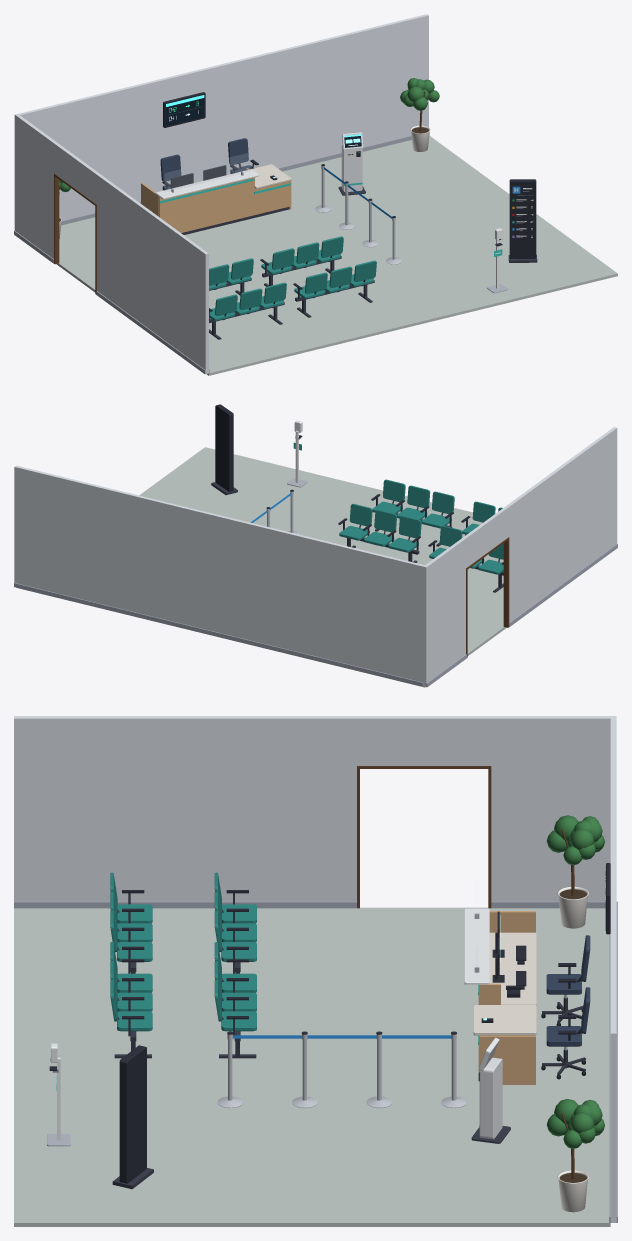
The model's file is hos-013.glb.
3 renders of one model, top to bottom at view 1: azimuth 30°, elevation 25°; view 2: azimuth 150°, elevation 25°; view 3: azimuth 270°, elevation 25°, orthographic. The views are drawn at different scales.
Parts seen in each view (by area): view 1: wall, hospital_floor, vinyl_teal, beech, plastic_dark, dark_steel, glass_clear, skirting, white, chair_fabric, stainless, bed_frame (+5 smaller); view 2: wall, hospital_floor, vinyl_teal, skirting, plastic_dark, walnut, dark_steel; view 3: hospital_floor, wall, vinyl_teal, plastic_dark, laminate, skirting, leaf, beech, dark_steel, white, stainless, bed_frame (+4 smaller).
Part boxes in pixels (left/top/right/bottom): wall: left=14, top=14, right=428, bottom=373; hospital_floor: left=56, top=136, right=617, bottom=375; vinyl_teal: left=209, top=236, right=376, bottom=320; beech: left=141, top=168, right=291, bottom=232; plastic_dark: left=162, top=92, right=536, bottom=311; dark_steel: left=181, top=186, right=537, bottom=339; glass_clear: left=165, top=153, right=249, bottom=191; skirting: left=14, top=134, right=429, bottom=374; white: left=155, top=169, right=533, bottom=288; chair_fabric: left=160, top=138, right=253, bottom=190; stainless: left=315, top=166, right=401, bottom=264; bed_frame: left=341, top=132, right=363, bottom=192; wall: left=14, top=427, right=617, bottom=686; hospital_floor: left=16, top=447, right=506, bottom=687; vinyl_teal: left=339, top=479, right=503, bottom=574; skirting: left=14, top=544, right=617, bottom=687; plastic_dark: left=215, top=404, right=503, bottom=564; walnut: left=466, top=537, right=509, bottom=657; dark_steel: left=211, top=482, right=503, bottom=592; hospital_floor: left=14, top=907, right=610, bottom=1226; wall: left=14, top=716, right=616, bottom=1222; vinyl_teal: left=110, top=872, right=256, bottom=1031; plastic_dark: left=49, top=863, right=610, bottom=1183; laminate: left=473, top=932, right=536, bottom=1035; skirting: left=14, top=901, right=617, bottom=1222; leaf: left=546, top=815, right=604, bottom=1148; beech: left=478, top=911, right=535, bottom=1084; dark_steel: left=112, top=893, right=585, bottom=1189; white: left=51, top=908, right=489, bottom=1140; stainless: left=217, top=1034, right=466, bottom=1108; bed_frame: left=478, top=1037, right=502, bottom=1139.
Size of the model in its own units: 10.1 by 2.86 by 8.1.
